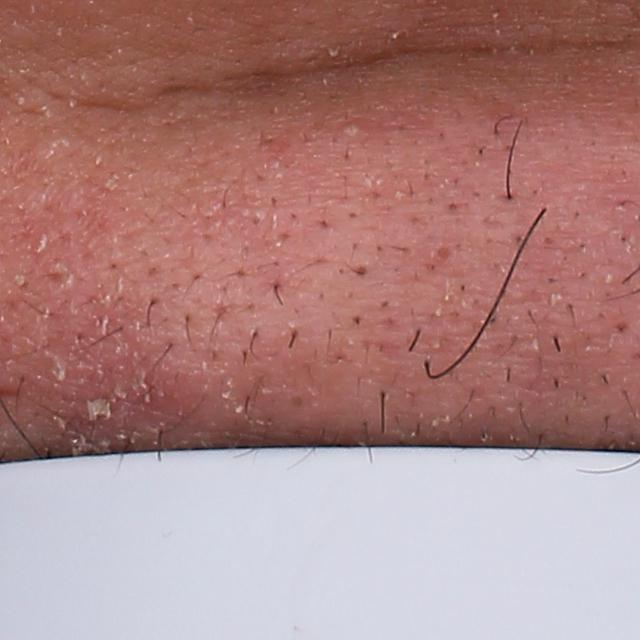comedo: (435, 243, 456, 260)
